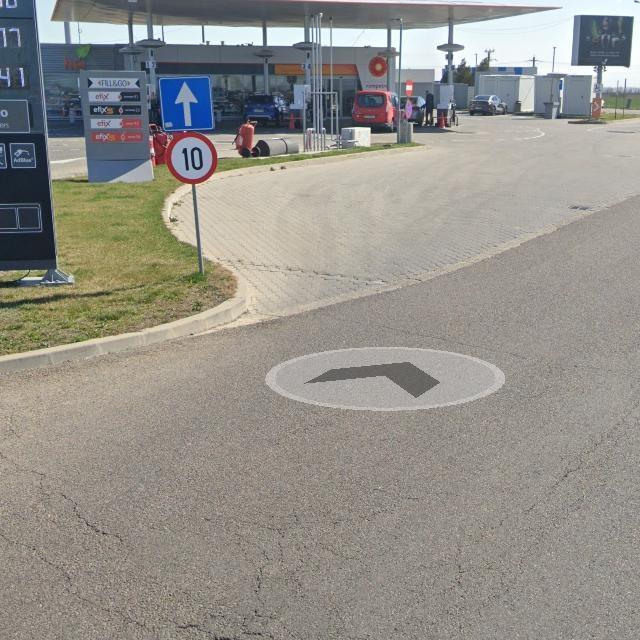forb_speed_over_10: (166, 132, 217, 184)
